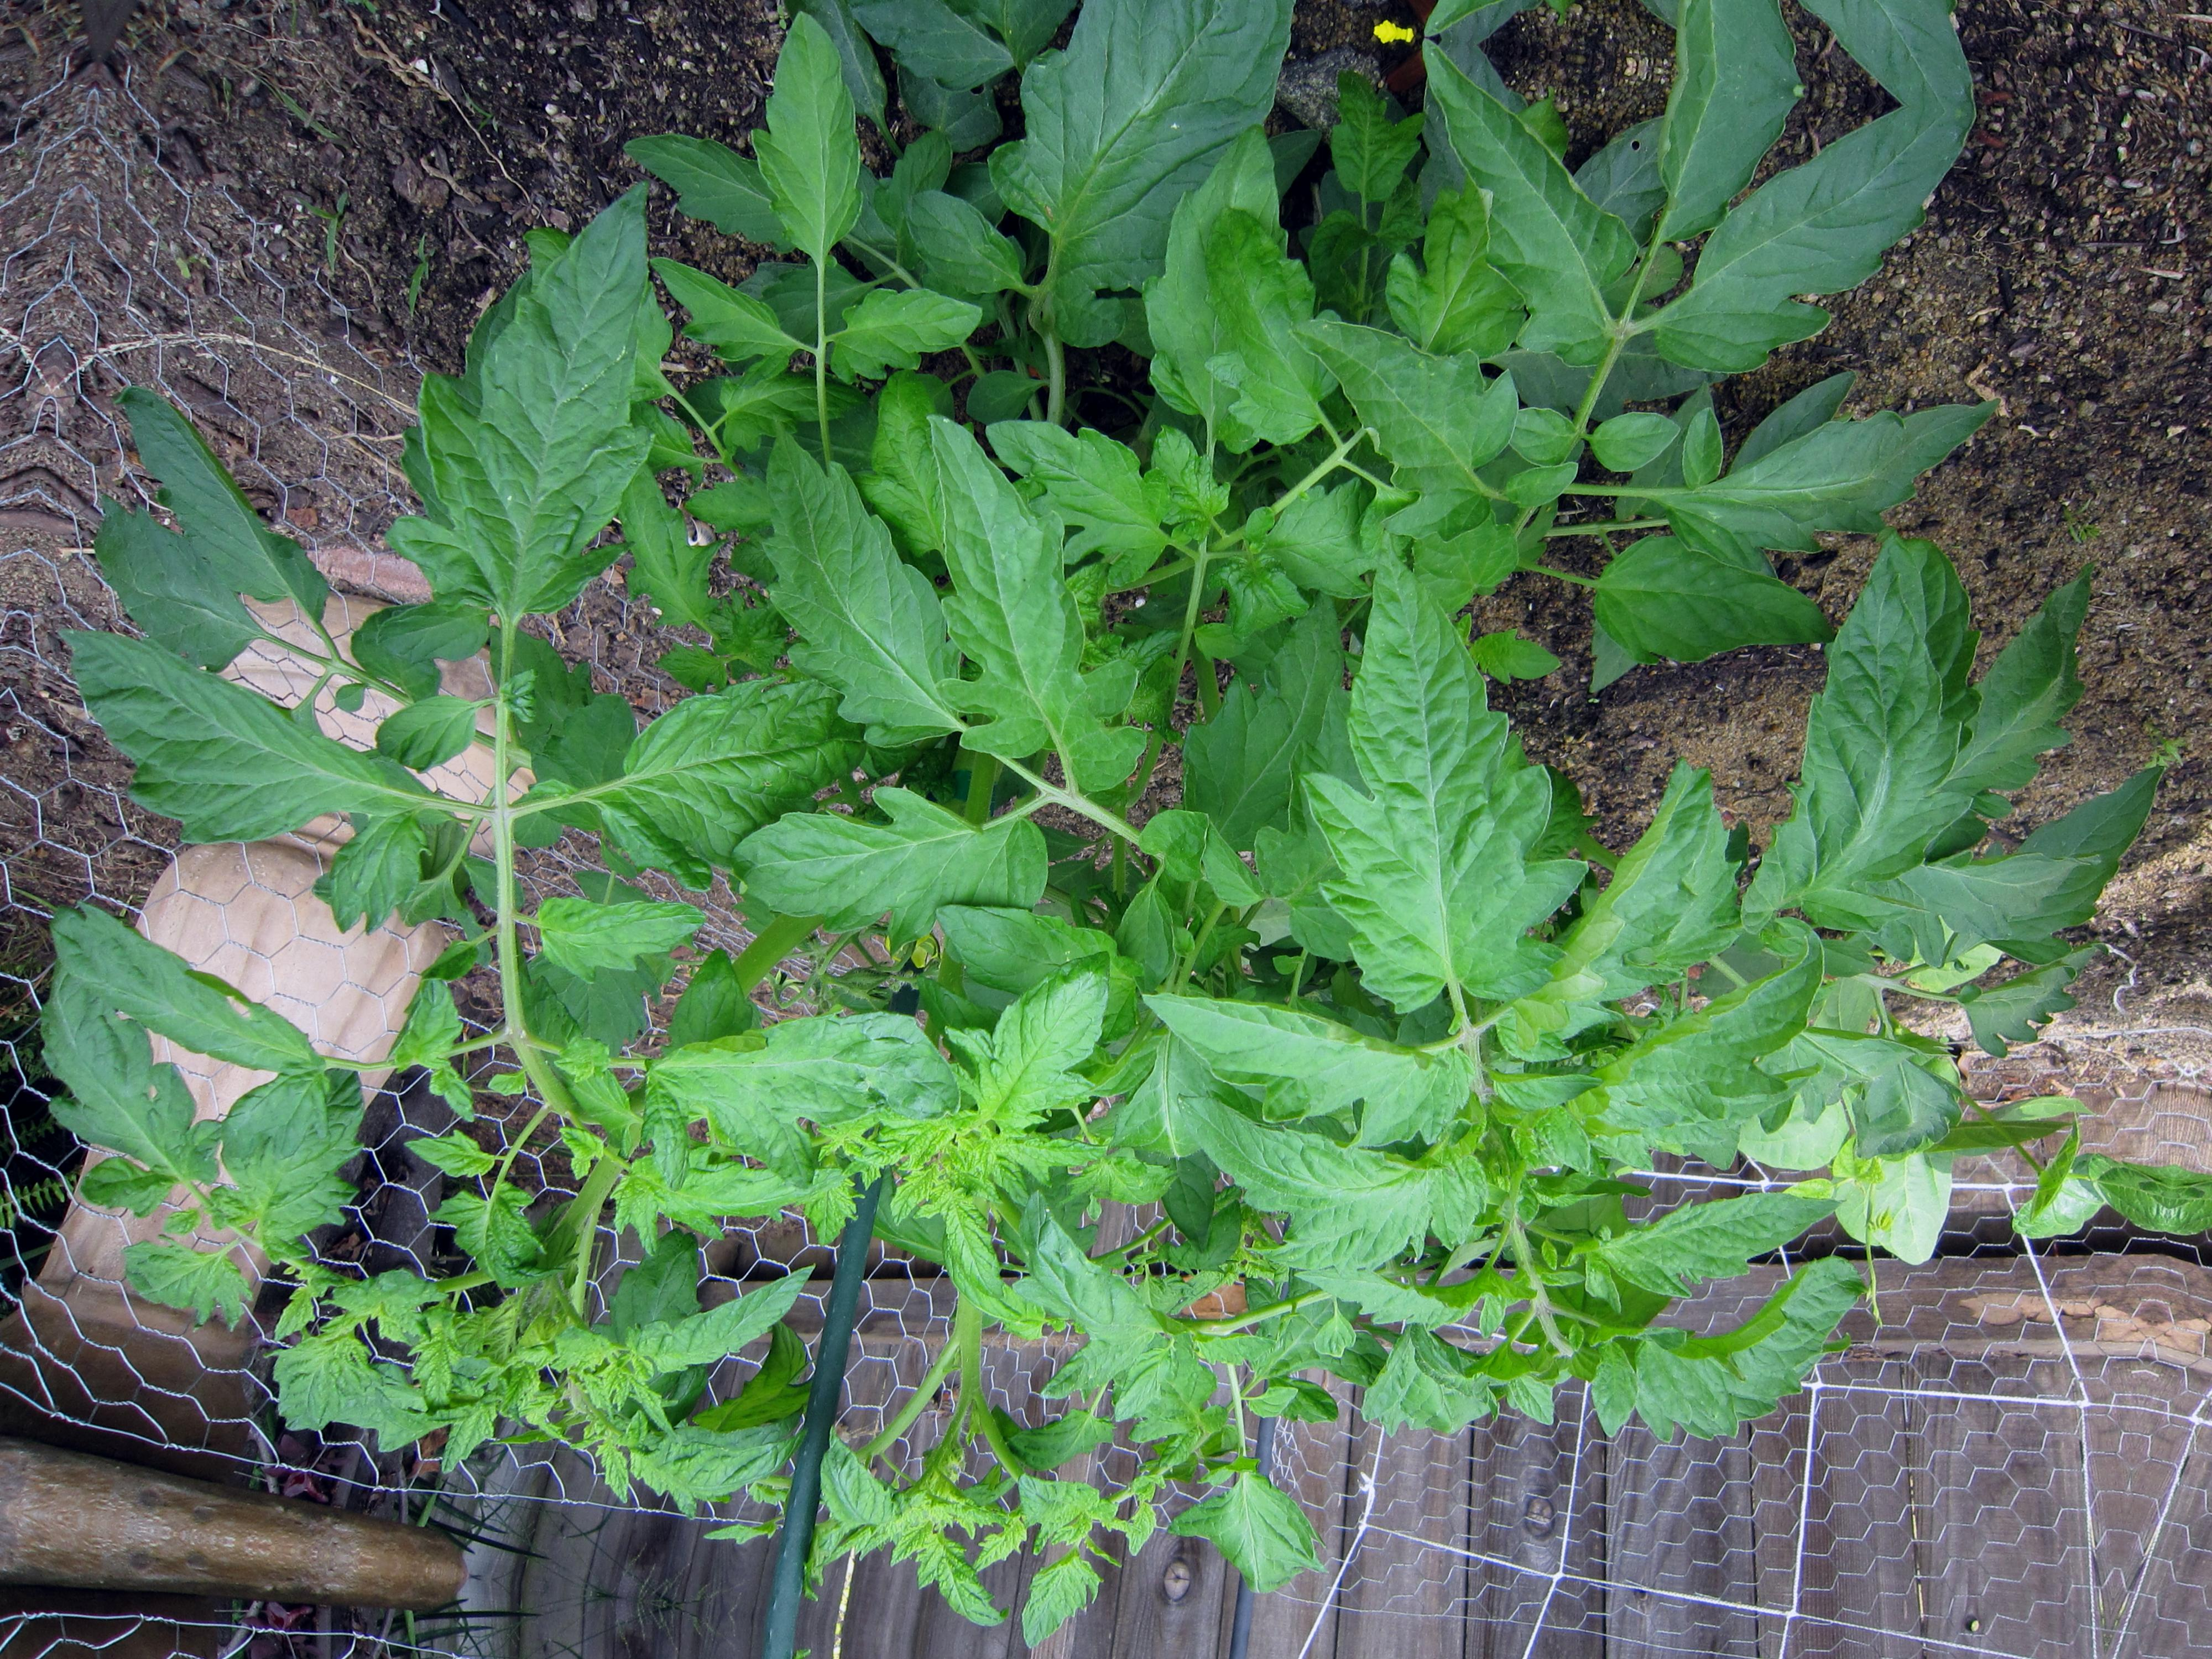Tomato leaf: (408, 112, 709, 631), (66, 599, 481, 915), (1285, 577, 1587, 1011), (1735, 500, 1989, 1006), (552, 969, 1000, 1213), (1364, 35, 1677, 371), (967, 0, 1277, 335), (1658, 77, 1951, 420), (714, 423, 996, 779), (1566, 1199, 1881, 1492), (1146, 552, 1379, 929), (1174, 1066, 1547, 1297), (719, 725, 1075, 965), (30, 840, 347, 1105), (1501, 762, 1745, 1087), (84, 375, 366, 653), (1137, 929, 1479, 1155), (878, 394, 1101, 737), (1670, 345, 1975, 591), (1872, 744, 2163, 1000), (1280, 263, 1568, 521), (1163, 181, 1388, 479), (1512, 1007, 1815, 1213), (1561, 1117, 1838, 1340), (935, 357, 1209, 570), (571, 1202, 827, 1417), (998, 1215, 1245, 1436), (1256, 1197, 1538, 1373), (1564, 512, 1832, 697), (1118, 979, 1451, 1101), (946, 929, 1123, 1157), (1169, 1432, 1345, 1600), (507, 871, 732, 1000)
